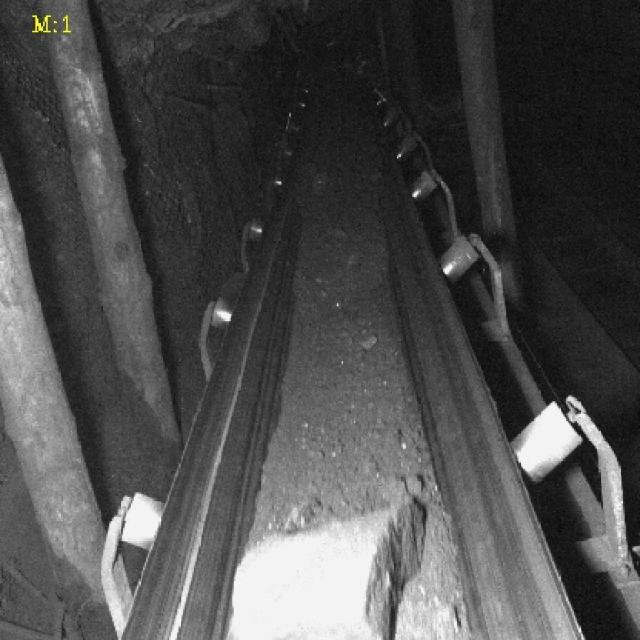large_sized_coal: (231, 503, 429, 637)
